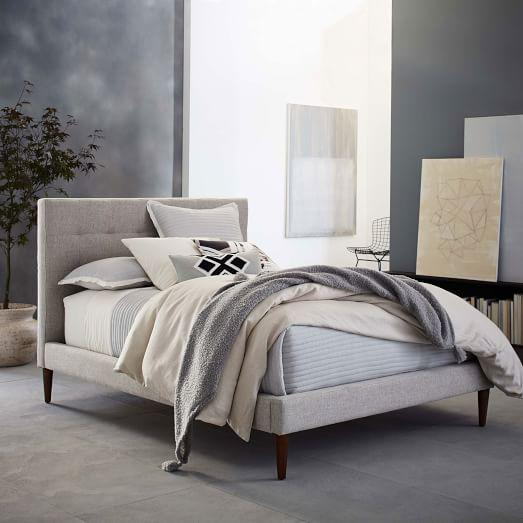bed: (32, 195, 504, 484)
